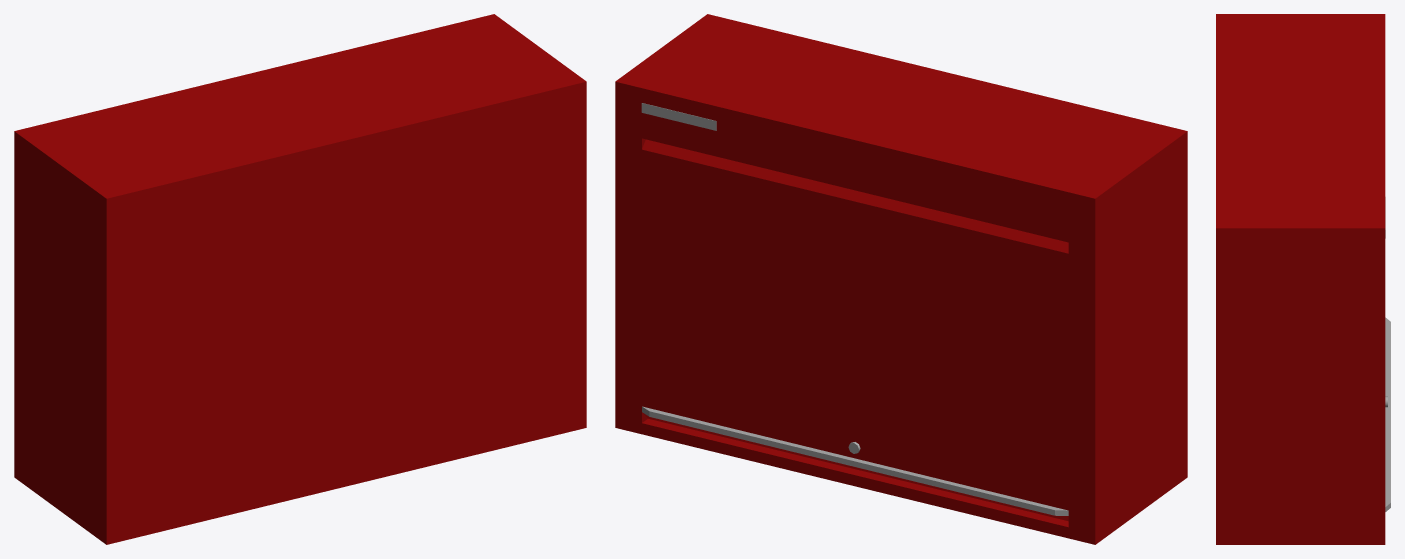
3 renders of one model, left to right at view 1: azimuth 30°, elevation 25°; view 2: azimuth 150°, elevation 25°; view 3: azimuth 270°, elevation 25°, orthographic. The views are drawn at different scales.
Parts seen in each view (by area): view 1: mesh8_mesh8-geometry; view 2: mesh8_mesh8-geometry, mesh5_mesh5-geometry, mesh1_mesh1-geometry, mesh6_mesh6-geometry, mesh3_mesh3-geometry; view 3: mesh8_mesh8-geometry, mesh1_mesh1-geometry.
Part boxes in pixels (x1=…): mesh8_mesh8-geometry: x1=14, y1=14, x2=586, y2=544; mesh8_mesh8-geometry: x1=615, y1=14, x2=1187, y2=544; mesh5_mesh5-geometry: x1=642, y1=139, x2=1068, y2=510; mesh1_mesh1-geometry: x1=642, y1=406, x2=1068, y2=515; mesh6_mesh6-geometry: x1=642, y1=412, x2=1068, y2=521; mesh3_mesh3-geometry: x1=641, y1=103, x2=716, y2=130; mesh8_mesh8-geometry: x1=1216, y1=14, x2=1385, y2=544; mesh1_mesh1-geometry: x1=1385, y1=317, x2=1390, y2=511.
Size of the model in its own units: 0.7922 by 0.5458 by 0.2729.
